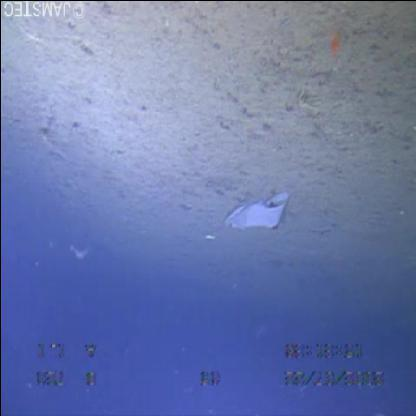Rác: (204, 192, 298, 236)
